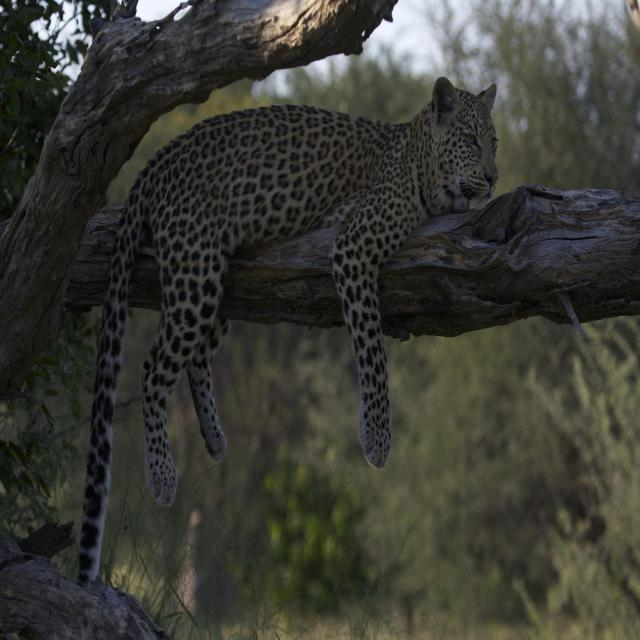Leopard: (65, 66, 513, 577)
